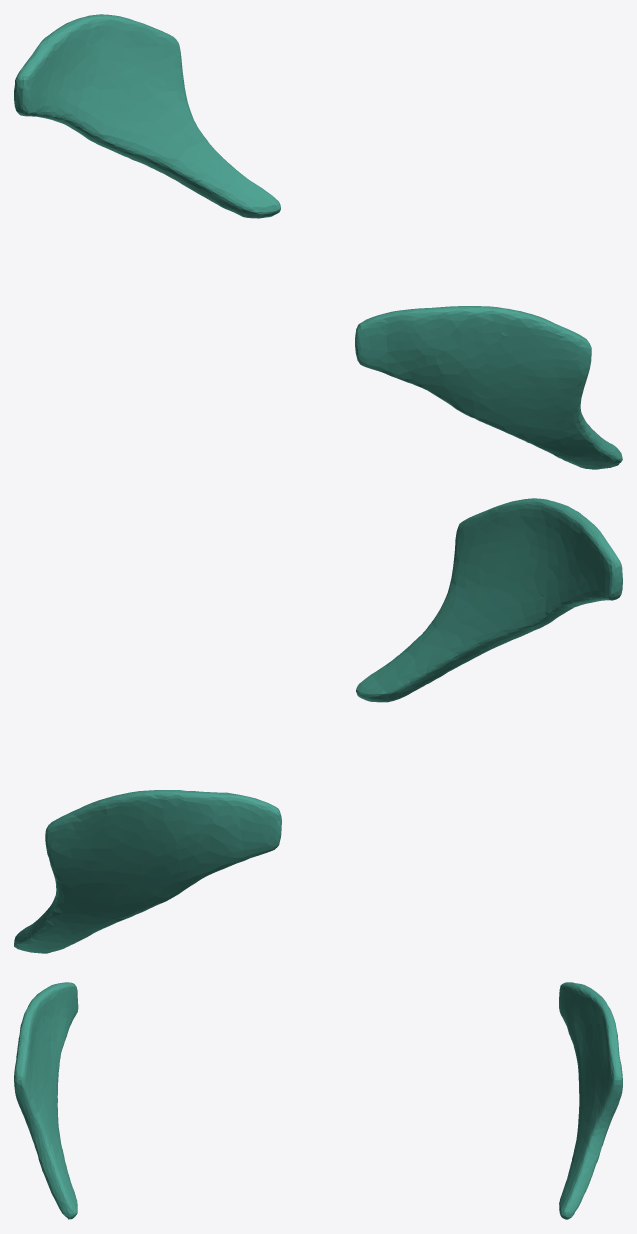
The picture shows the model from 3 angles, top to bottom: view 1: azimuth 30°, elevation 25°; view 2: azimuth 150°, elevation 25°; view 3: azimuth 270°, elevation 25°; orthographic projection. The views are drawn at different scales.
Visible parts, largest first — view 1: 806.obj; view 2: 806.obj; view 3: 806.obj.
Part boxes in pixels (left/top/right/bottom): 806.obj: left=14, top=14, right=622, bottom=469; 806.obj: left=14, top=498, right=622, bottom=953; 806.obj: left=14, top=982, right=622, bottom=1219.
Size of the model in its own units: 3573 by 2823 by 9784.
